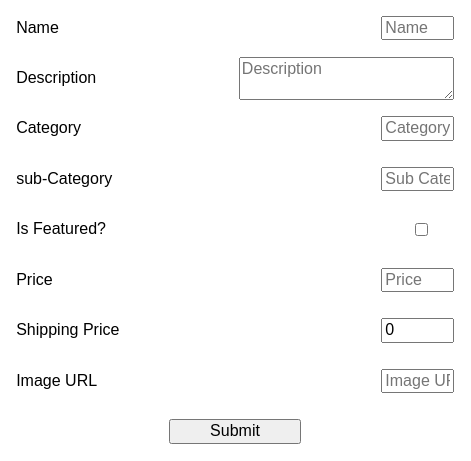
it: fields display correct input › Category field displays correct input
The image size is (471, 461).
Click the field with placeholder "Category" at [418, 129], box [381,116,454,141]
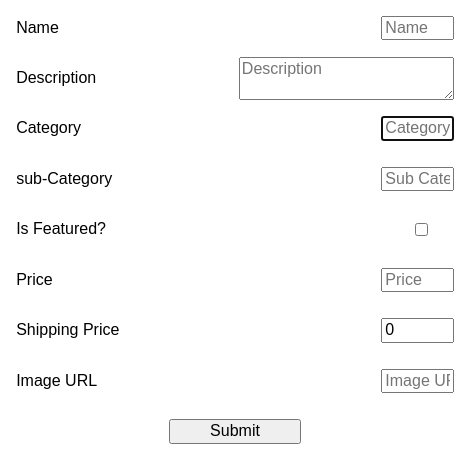
Type keys "test 123"
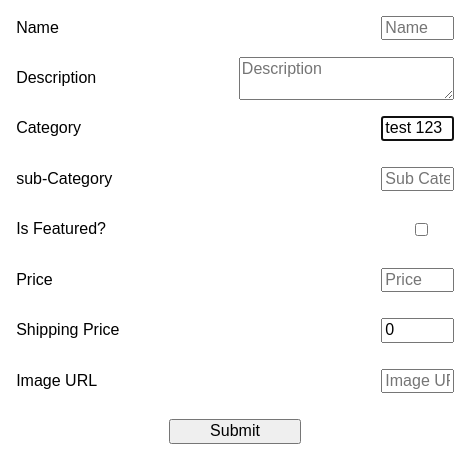
Now the field with placeholder "Category" holds "test 123", box [381,116,454,141]
